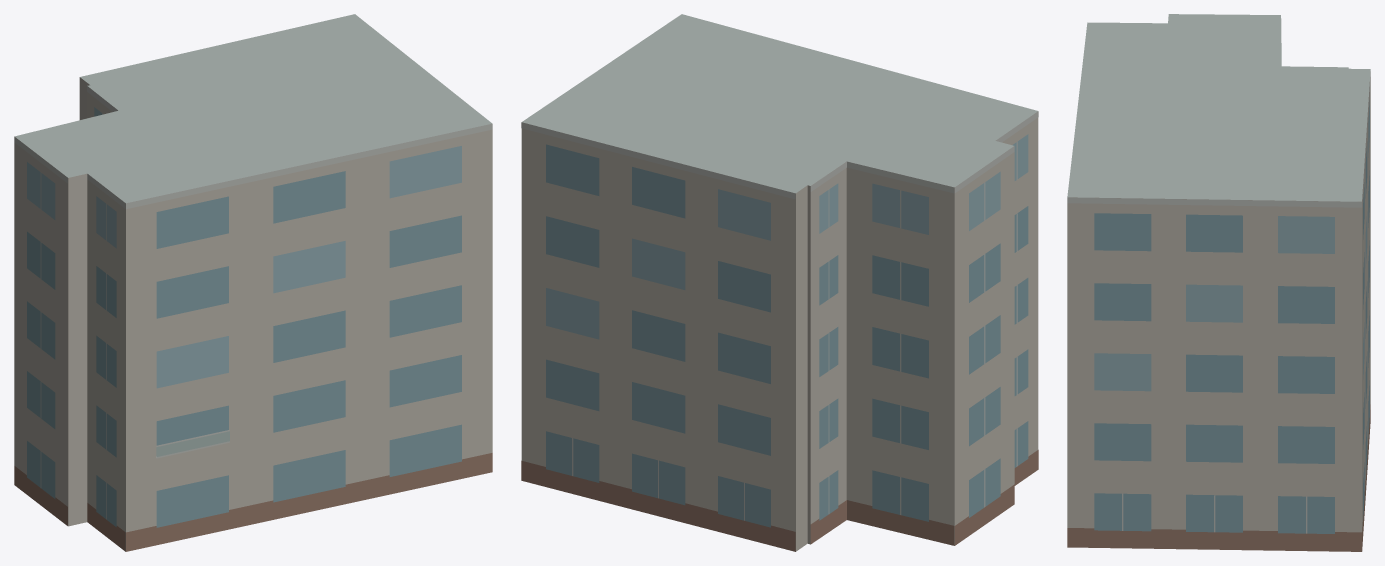
Rendered from survey-upis-32690848.glb.
3 renders of one model, left to right at view 1: azimuth 30°, elevation 25°; view 2: azimuth 150°, elevation 25°; view 3: azimuth 270°, elevation 25°, orthographic. The views are drawn at different scales.
Parts seen in each view (by area): view 1: survey-upis-32690848.tmp; view 2: survey-upis-32690848.tmp; view 3: survey-upis-32690848.tmp.
Boxes of the visible parts, x1,y1,x2,y2 form: survey-upis-32690848.tmp: [14, 14, 492, 551]; survey-upis-32690848.tmp: [521, 14, 1038, 551]; survey-upis-32690848.tmp: [1067, 14, 1370, 551].
Bounding box in the file's own units: 16.46 × 14.3 × 11.24.
